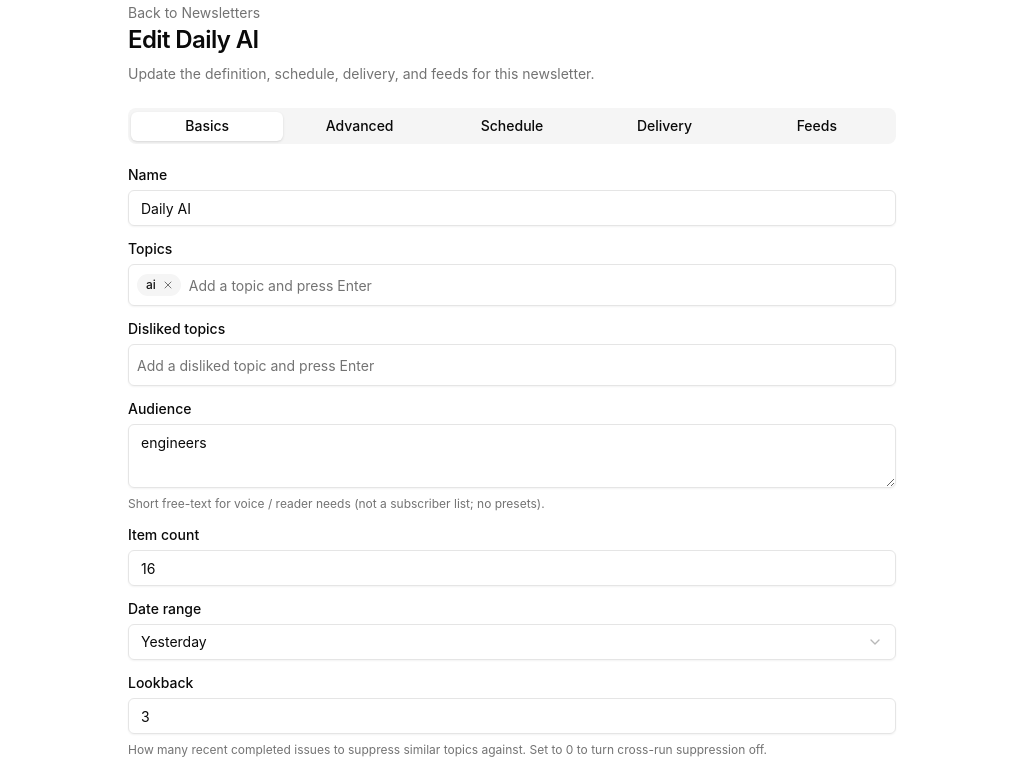
Test: NewsletterEditForm — Delivery › prefills recipients chips and Auto-email from newsletter
The image size is (1024, 768).
Click the tab "Delivery" at point(664, 126), box [588,112,741,140]
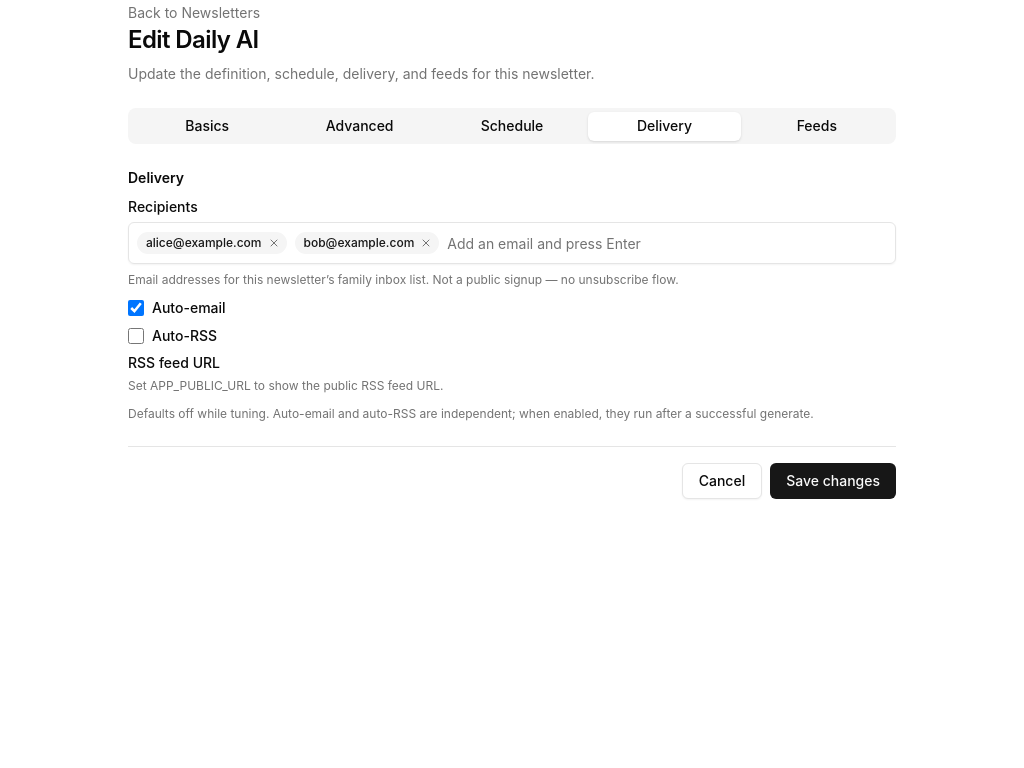
Expected: the text "alice@example.com" is shown, [146,235,262,251]
Expected: the text "bob@example.com" is shown, [304,235,414,251]
Expected: the checkbox labelled "Auto-email" is checked, [128,300,144,316]
